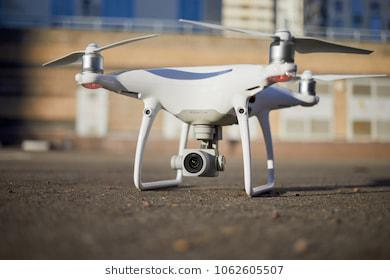drone: (31, 8, 390, 205)
